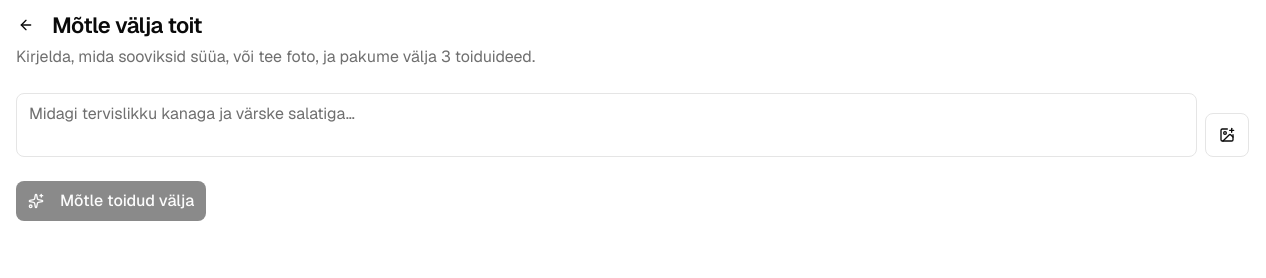
Test: ImagineClient error localization › renders the kill-switch copy for a 503 generation_disabled (HON-868)
Type "something with lentils" into the text box. click: (606, 125)
box: x1=16 y1=93 x2=1197 y2=157
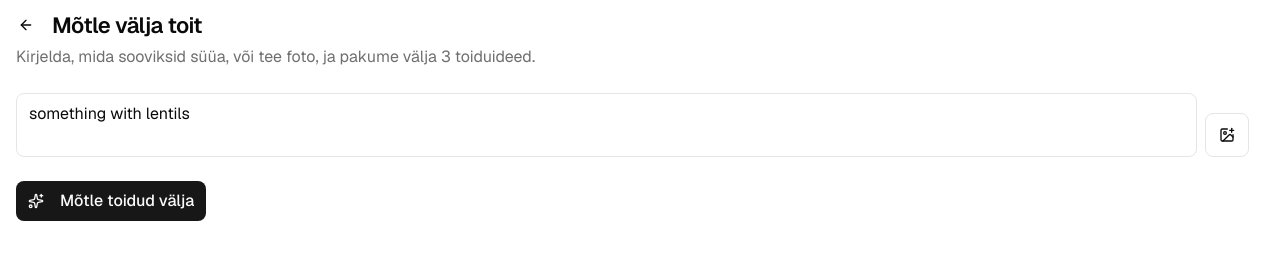
Click the button "Mõtle toidud välja". click: (111, 201)
box: x1=16 y1=181 x2=206 y2=221
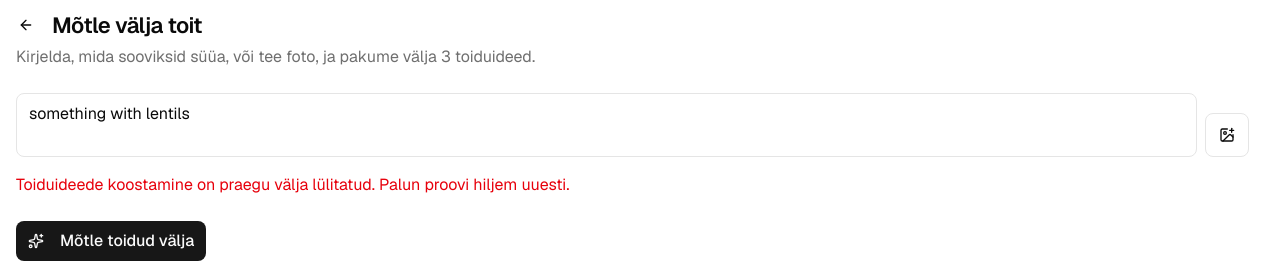
Expected: the text "Toiduideede koostamine on praegu välja lülitatud. Palun proovi hiljem uuesti." is shown, x1=16 y1=174 x2=569 y2=195
